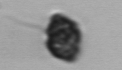plankton: (42, 9, 87, 69)
